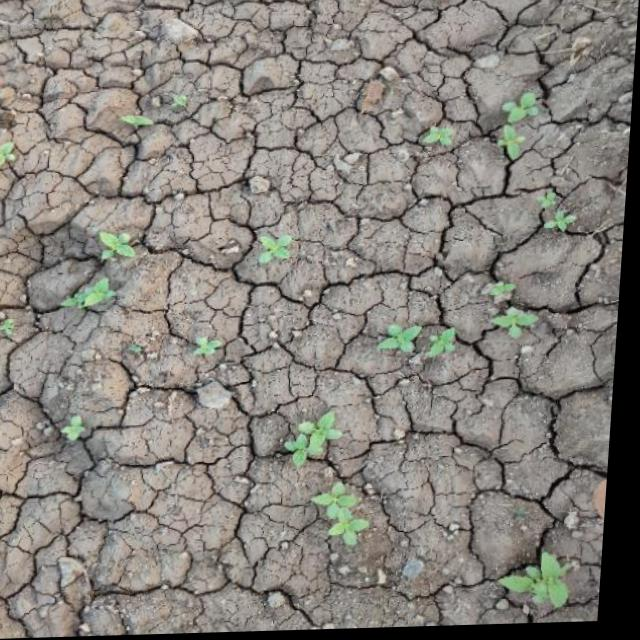crop: (507, 545, 595, 621), (306, 481, 394, 556), (484, 263, 549, 344), (378, 311, 467, 370), (284, 418, 368, 471), (493, 92, 547, 173), (539, 188, 592, 251), (416, 118, 466, 159), (65, 281, 126, 312), (95, 230, 144, 264), (255, 231, 300, 266)
